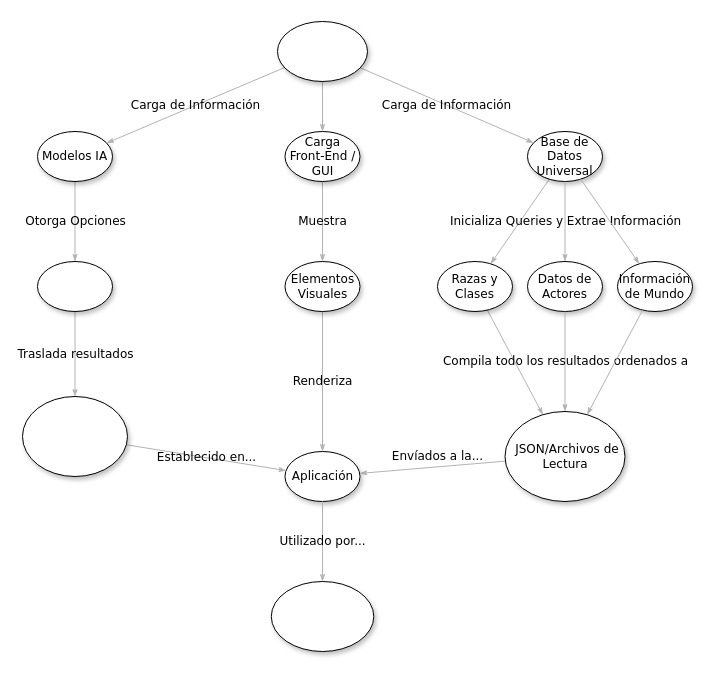
Image size: 716x676. Some labels were removed from this diagram. The shapes that lost their labels are listed below. From the top down, each one's centre as x and y in pixels, then its label:
(x=323, y=52): Inicialización
(x=75, y=287): Cargas de TPUs o Modos
(x=76, y=438): Parametros y Motor de Inferencia
(x=323, y=617): Interacción de Usuario
